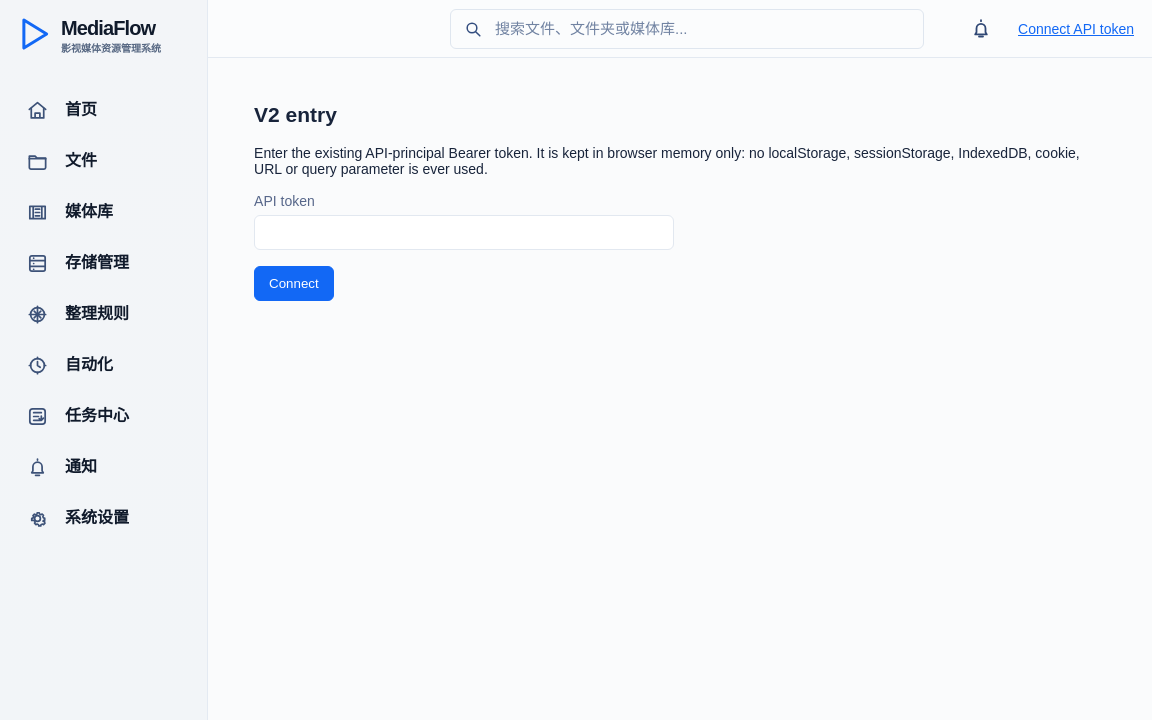
Test: EntryPage › requires token material before connecting
This screenshot has width=1152, height=720.
Click the button "Connect".
click(294, 283)  # box x1=254 y1=266 x2=334 y2=301
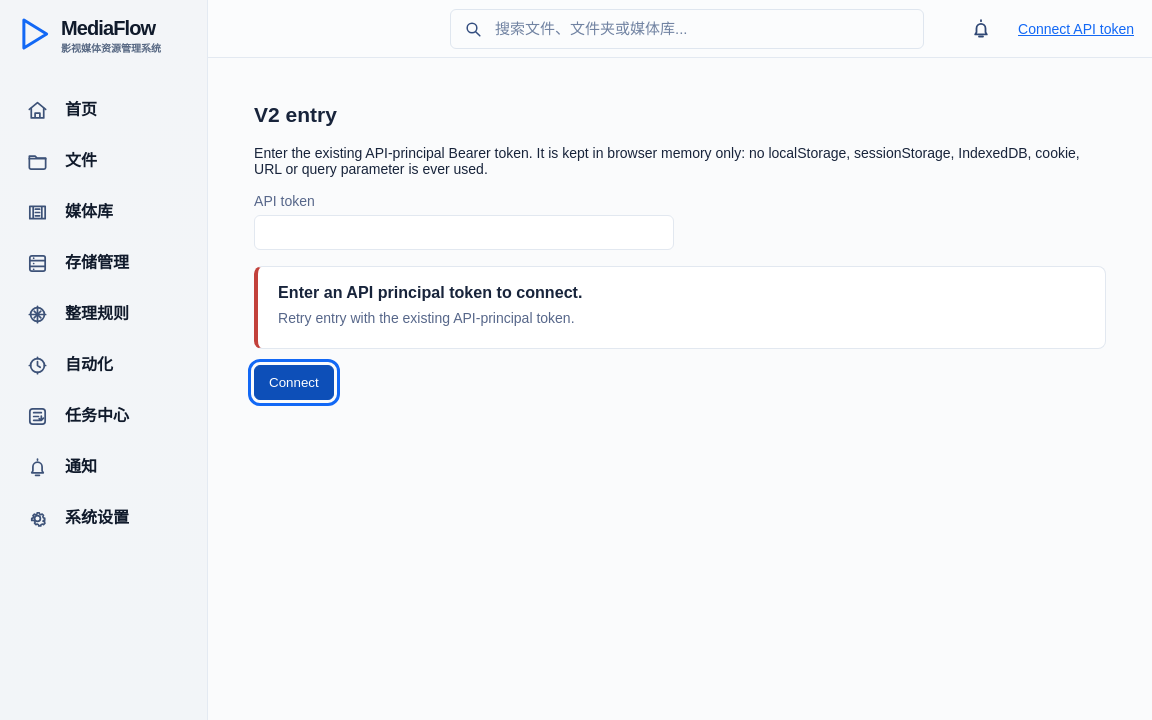
Expected: the heading "Enter an API principal token to connect." is shown, x1=278 y1=283 x2=582 y2=301
